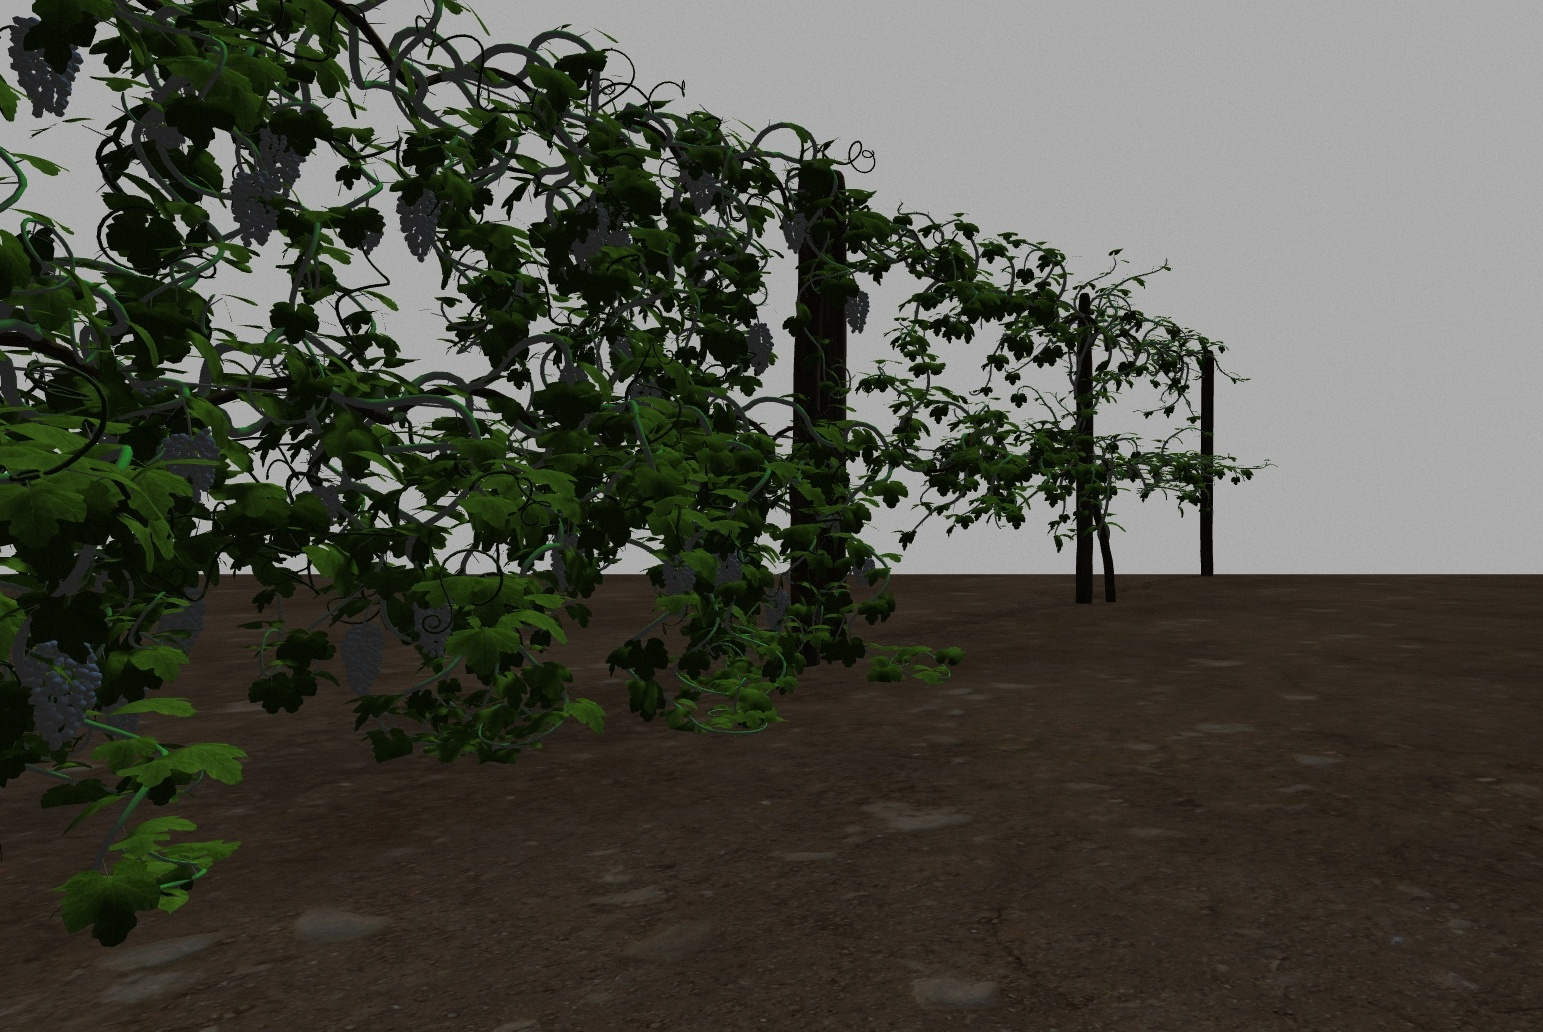grape: (21, 639, 102, 751), (7, 17, 83, 117), (228, 172, 282, 246), (394, 187, 443, 261), (162, 428, 220, 490), (340, 623, 386, 692), (160, 589, 208, 651), (256, 127, 302, 189), (413, 598, 454, 660), (573, 203, 609, 268), (747, 322, 775, 377), (662, 559, 697, 595), (687, 170, 717, 212), (782, 210, 807, 253), (846, 289, 871, 334), (766, 589, 790, 630), (852, 559, 877, 585)
